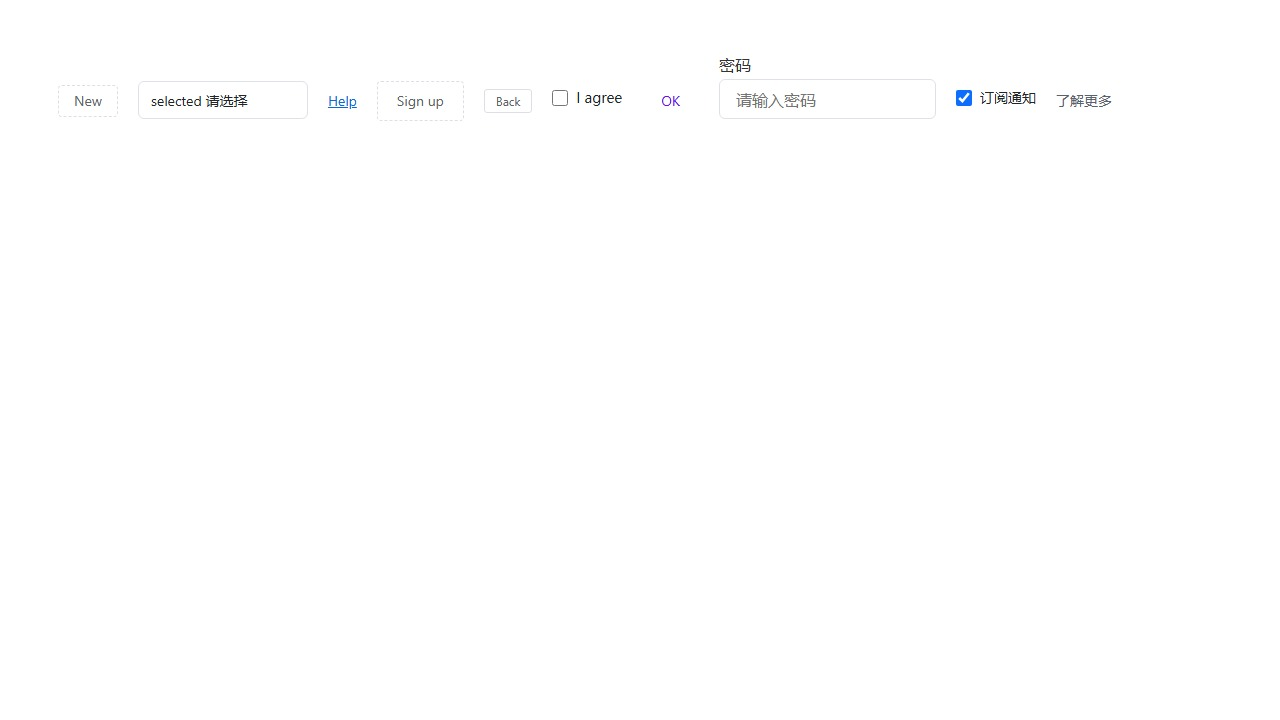button: (377, 80, 464, 120), (642, 81, 699, 119), (58, 84, 118, 116), (484, 88, 532, 112)
checkbox: (552, 90, 568, 106), (956, 90, 972, 106)
icon: (980, 88, 1036, 107), (576, 88, 622, 107)
input: (719, 79, 936, 119)
link: (1056, 91, 1112, 110), (328, 91, 357, 110)
radio: (956, 88, 1036, 107), (552, 88, 622, 107)
select: (138, 81, 308, 119)
